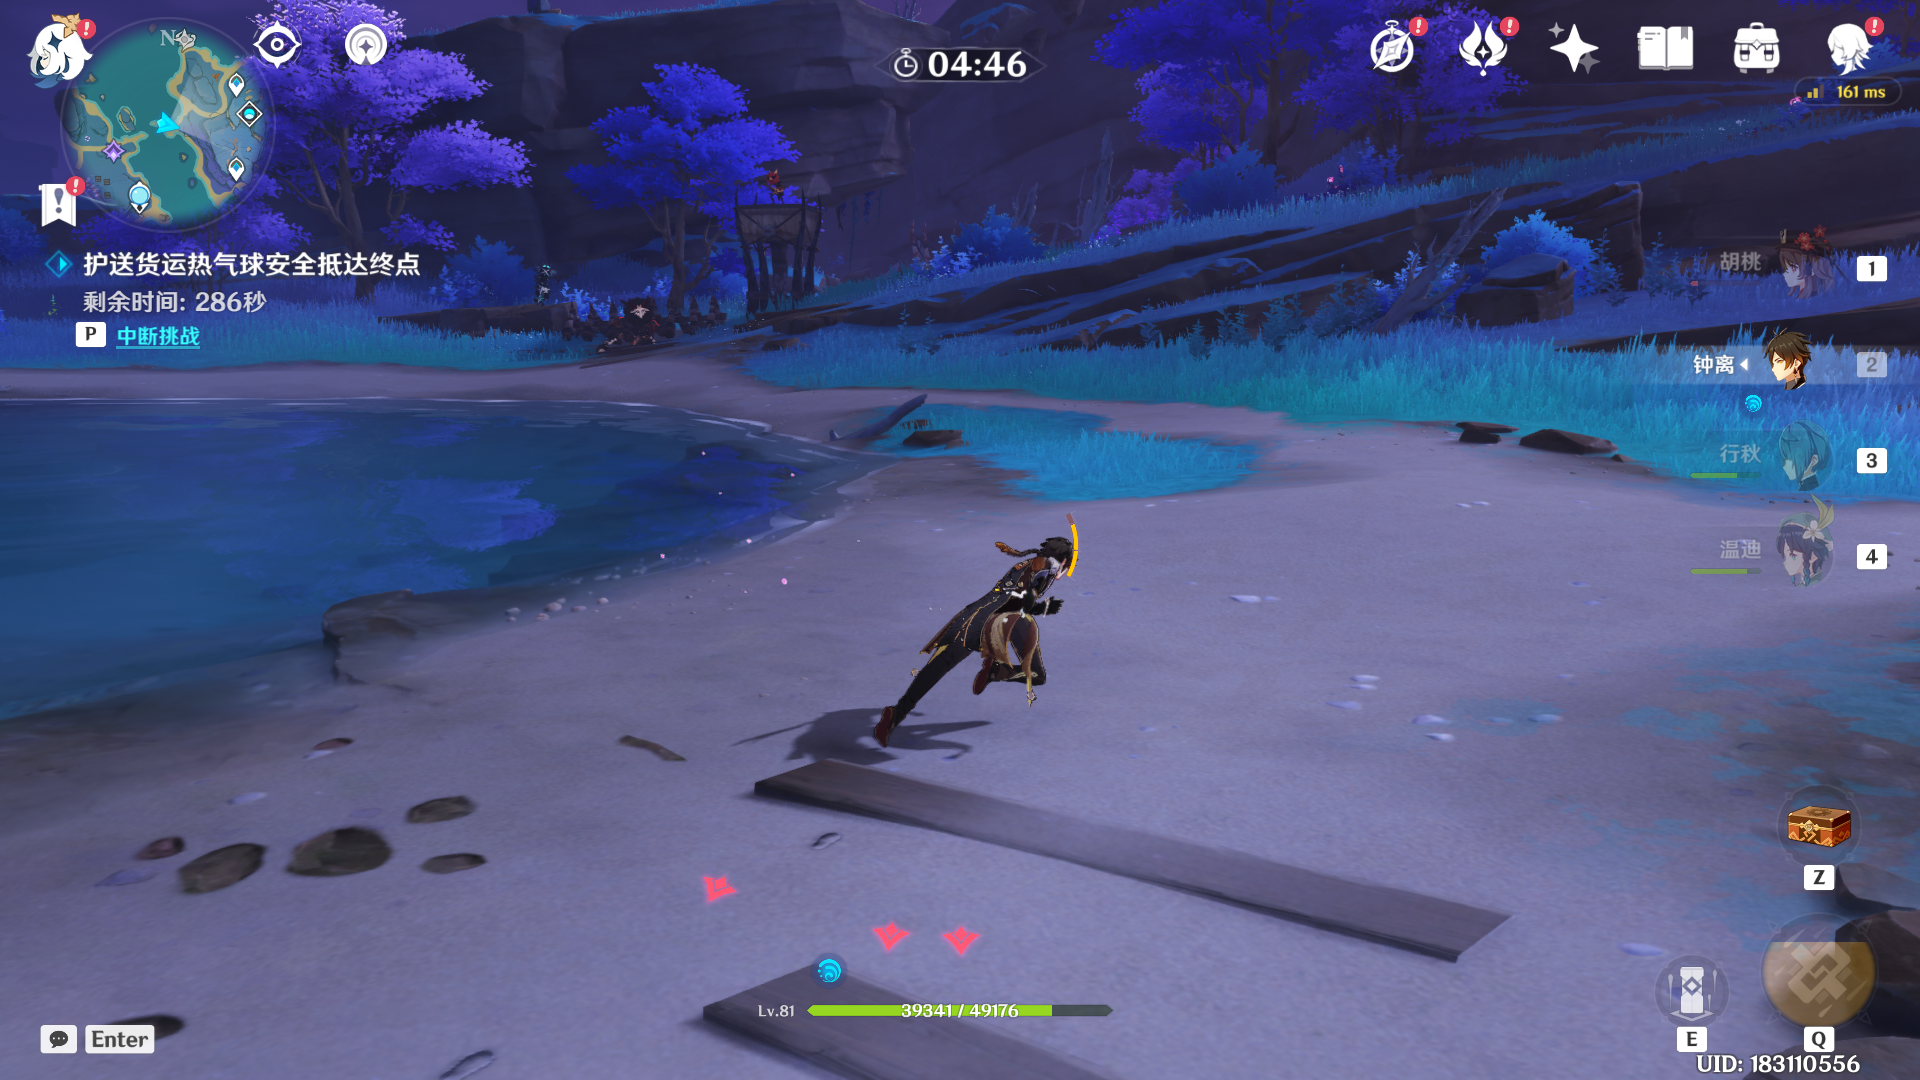character: (822, 498, 1137, 806)
hili: (527, 264, 566, 313), (761, 162, 791, 203)
